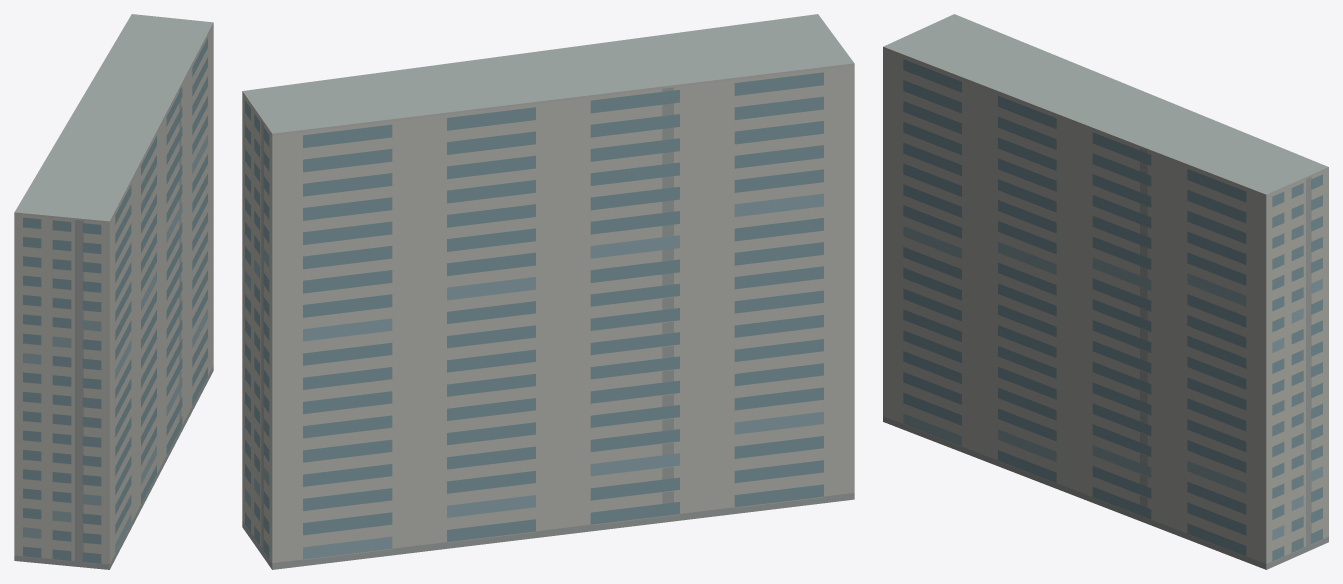
The model's file is residential-9d108bb4-61a6-4126-8d14-98e7ecf14718.glb.
3 views of the same model, side by side, from view 1: azimuth 30°, elevation 25°; view 2: azimuth 150°, elevation 25°; view 3: azimuth 270°, elevation 25° (orthographic). The views are drawn at different scales.
Visible parts, largest first — view 1: residential-9d108bb4-61a6-4126-8d14-98e7ecf14718.tmp; view 2: residential-9d108bb4-61a6-4126-8d14-98e7ecf14718.tmp; view 3: residential-9d108bb4-61a6-4126-8d14-98e7ecf14718.tmp.
Boxes of the visible parts, x1,y1,x2,y2 form: residential-9d108bb4-61a6-4126-8d14-98e7ecf14718.tmp: (14,14,213,569); residential-9d108bb4-61a6-4126-8d14-98e7ecf14718.tmp: (242,14,854,569); residential-9d108bb4-61a6-4126-8d14-98e7ecf14718.tmp: (883,14,1328,569).
Bounding box in the file's own units: 49.6 × 48 × 51.68.
